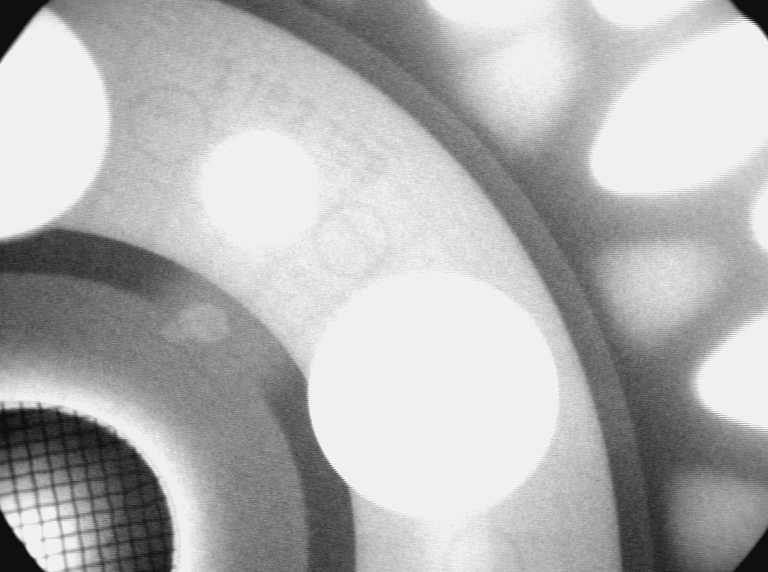defect: (159, 299, 233, 351)
